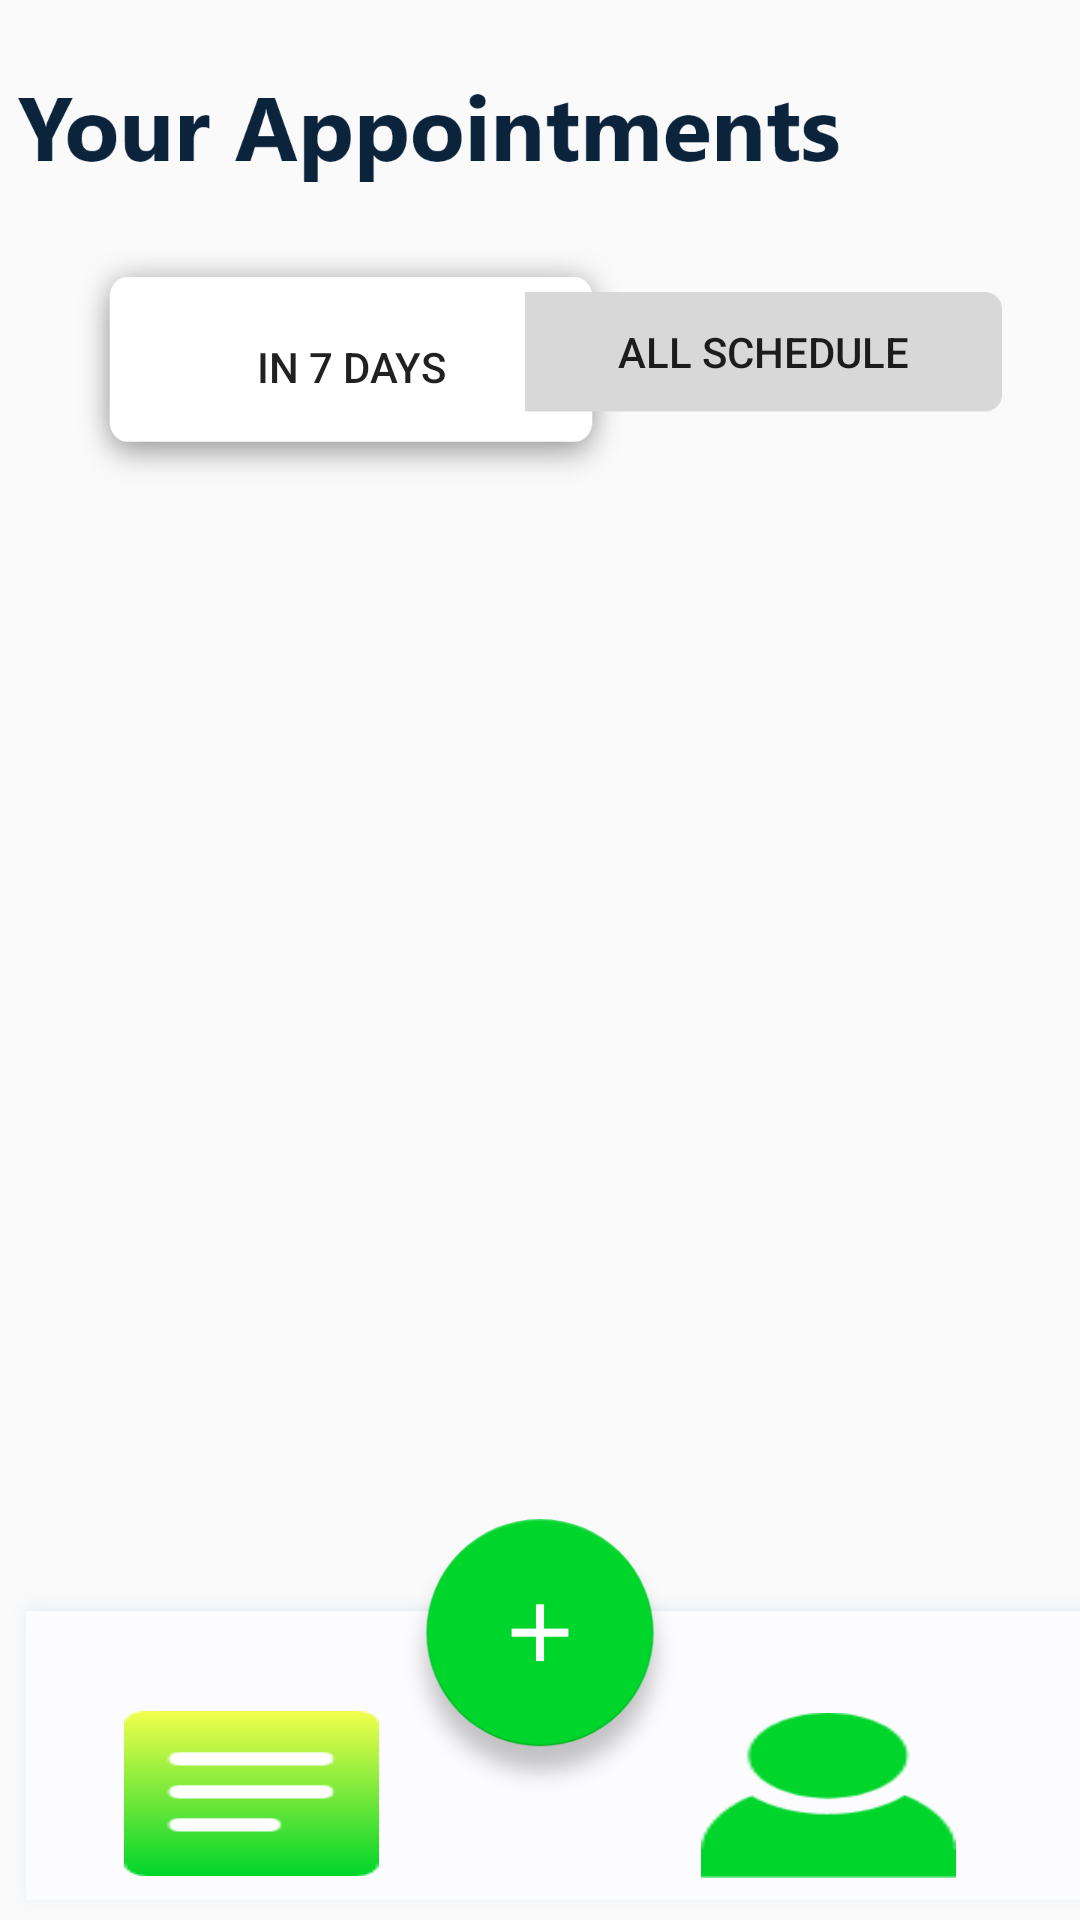

Named icons in this screenshot (1080px x 1920px) and their bounding boxes, (x1, y1, x2, y2):
add appointment: (422, 1519, 657, 1773)
